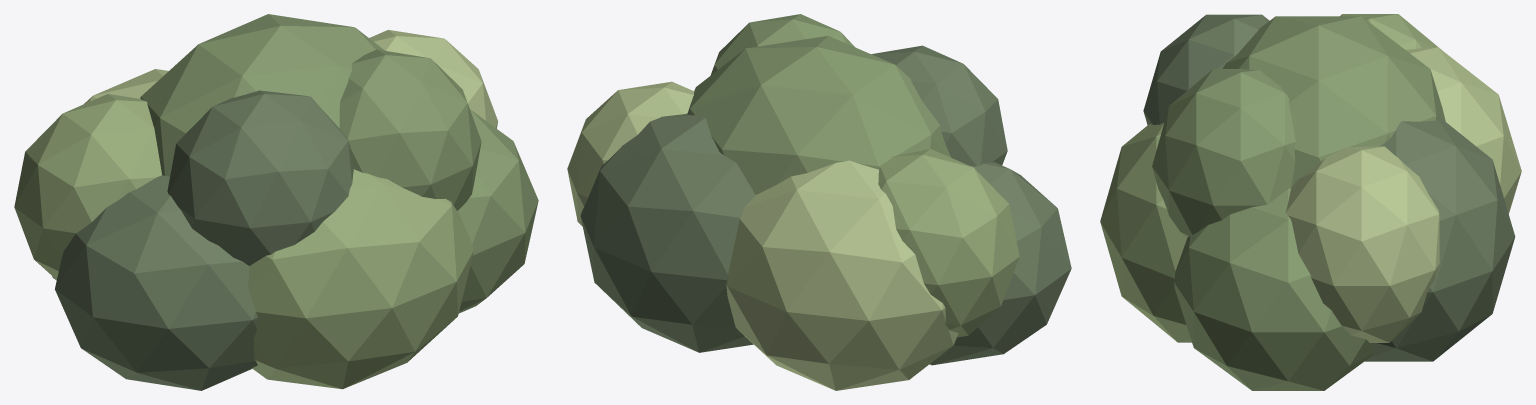
File: bush-round.glb
3 renders of one model, left to right at view 1: azimuth 30°, elevation 25°; view 2: azimuth 150°, elevation 25°; view 3: azimuth 270°, elevation 25°, orthographic. The views are drawn at different scales.
Parts seen in each view (by area): view 1: bush-round; view 2: bush-round; view 3: bush-round.
Part boxes in pixels (x1,y1,x2,y2): bush-round: [14, 14, 538, 390]; bush-round: [567, 14, 1071, 390]; bush-round: [1100, 14, 1521, 390].
Bounding box in the file's own units: 2.37 × 1.58 × 1.95.
